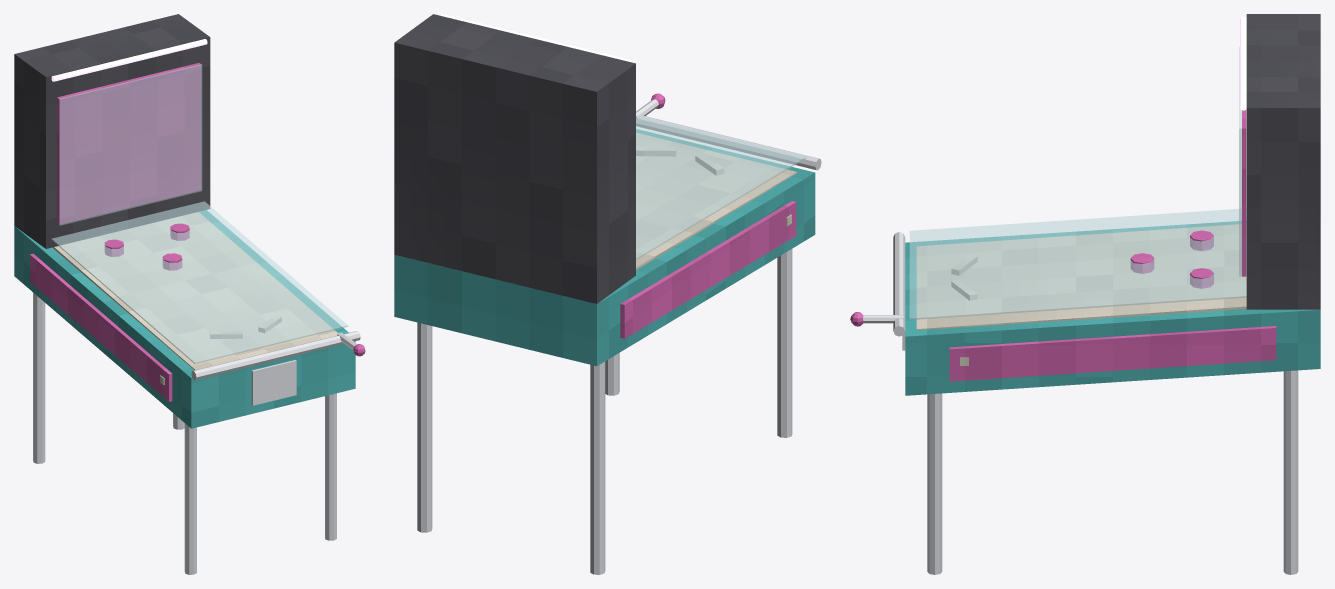
Rendered from three-d-retro-arcade-and-mall-1989-retro-arcade-and-mall-1989-pinball-table-e89e9096.glb.
3 renders of one model, left to right at view 1: azimuth 30°, elevation 25°; view 2: azimuth 150°, elevation 25°; view 3: azimuth 270°, elevation 25°, orthographic. The views are drawn at different scales.
Visible parts, largest first — view 1: pinball-table; view 2: pinball-table; view 3: pinball-table.
Boxes of the visible parts, left/top/right/bottom form: pinball-table: left=14, top=14, right=365, bottom=574; pinball-table: left=394, top=14, right=821, bottom=574; pinball-table: left=850, top=14, right=1320, bottom=574.
Size of the model in its own units: 0.7901 by 1.75 by 1.58.
7 materials, 4 textured.
